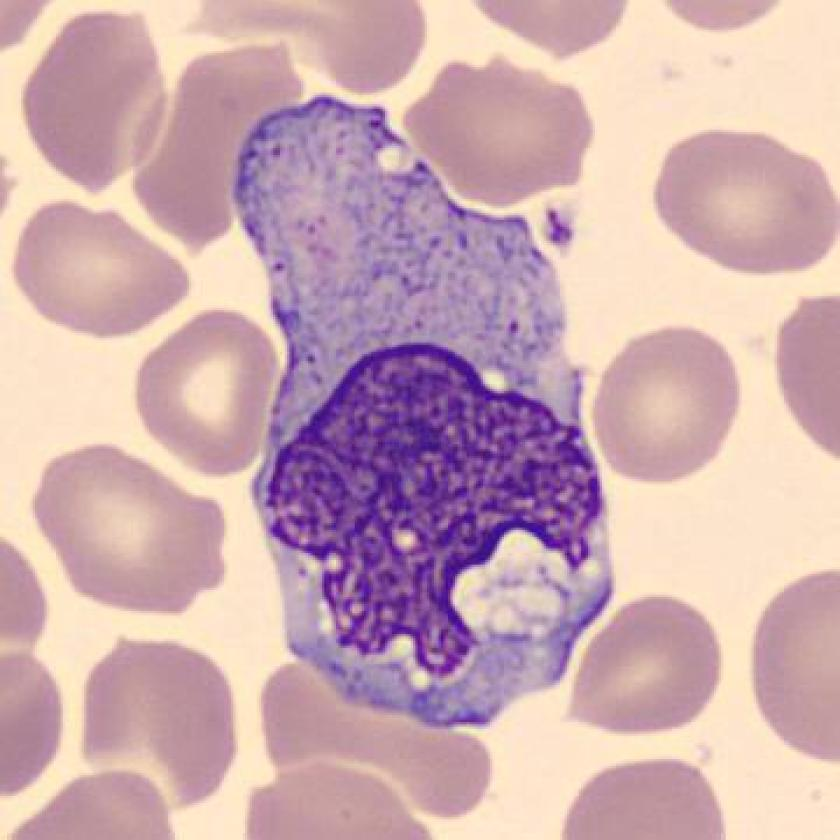monocyte: (211, 73, 645, 751)
